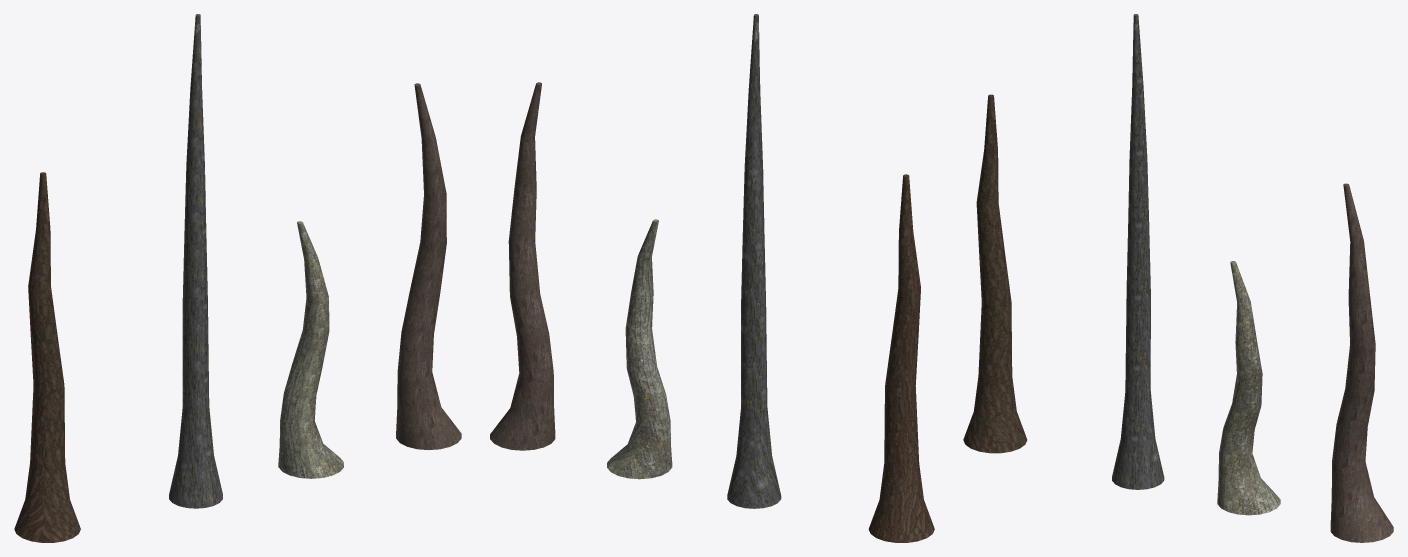
File: trees.fbx
3 views of the same model, side by side, from view 1: azimuth 30°, elevation 25°; view 2: azimuth 150°, elevation 25°; view 3: azimuth 330°, elevation 25° (orthographic). The views are drawn at different scales.
Parts seen in each view (by area): view 1: tree_2, tree_1, tree_3, tree_4; view 2: tree_2, tree_1, tree_3, tree_4; view 3: tree_2, tree_1, tree_3, tree_4.
Part boxes in pixels (box(x1,y1,x2,y2)): tree_2: box(169, 14, 222, 508); tree_1: box(14, 172, 80, 542); tree_3: box(396, 83, 461, 449); tree_4: box(278, 221, 343, 478); tree_2: box(727, 14, 781, 508); tree_1: box(868, 174, 934, 542); tree_3: box(490, 82, 555, 450); tree_4: box(607, 219, 672, 479); tree_2: box(1112, 14, 1164, 489); tree_1: box(963, 94, 1027, 453); tree_3: box(1330, 183, 1393, 542); tree_4: box(1217, 261, 1280, 515).
Size of the model in its own units: 202 by 212 by 26.55.
1 material, 1 textured.
